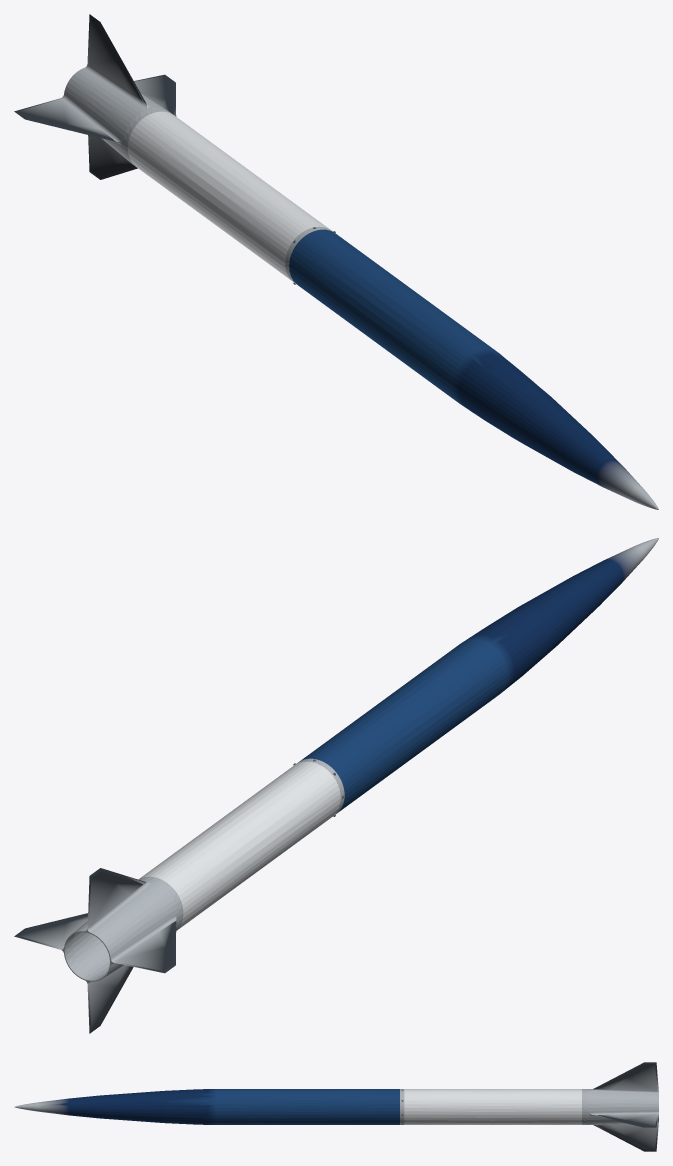
File: atlas.glb
3 views of the same model, one above another, from view 1: azimuth 30°, elevation 25°; view 2: azimuth 150°, elevation 25°; view 3: azimuth 270°, elevation 25° (orthographic). The views are drawn at different scales.
Visible parts, largest first — view 1: coifa, fus_inf, boattail; view 2: coifa, fus_inf, boattail; view 3: coifa, fus_inf, boattail, coup_(1).
Part boxes in pixels (box(x1,y1,x2,y2)): coifa: box(289, 229, 642, 500); fus_inf: box(128, 111, 328, 280); boattail: box(14, 14, 176, 179); coifa: box(300, 546, 644, 812); fus_inf: box(139, 761, 340, 930); boattail: box(14, 868, 182, 1033); coifa: box(37, 1089, 399, 1124); fus_inf: box(404, 1089, 581, 1124); boattail: box(582, 1062, 658, 1151); coup_(1): box(400, 1089, 404, 1124).
Bounding box in the file's own units: 0.4129 × 0.4129 × 2.71.
